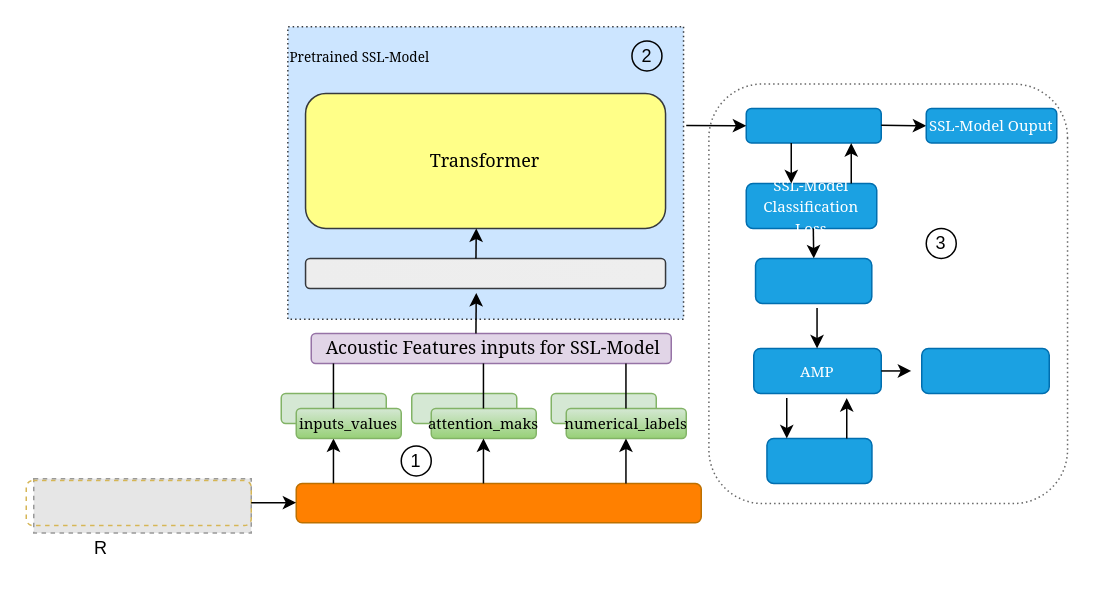
Image size: 1095x596. Some labels were removed from this diagram. Grey dashed boxes stand in for pictures. Each missing label, with the box of its shape:
Acoustic Feature Extractors: (295, 482, 701, 523)
Classification Head: (745, 107, 881, 143)
CNN: (304, 257, 666, 288)
CTCTrainer: (754, 257, 872, 303)
Metrics: (765, 437, 872, 483)
Training State: (920, 347, 1049, 393)
